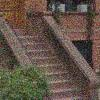stairs: (10, 25, 88, 100)
